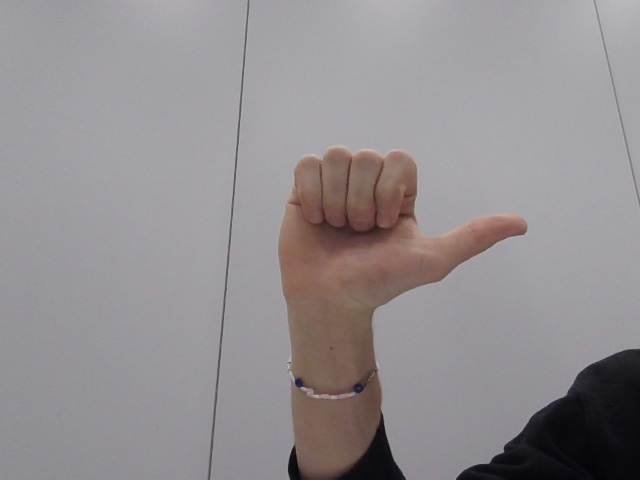left: (254, 127, 535, 348)
